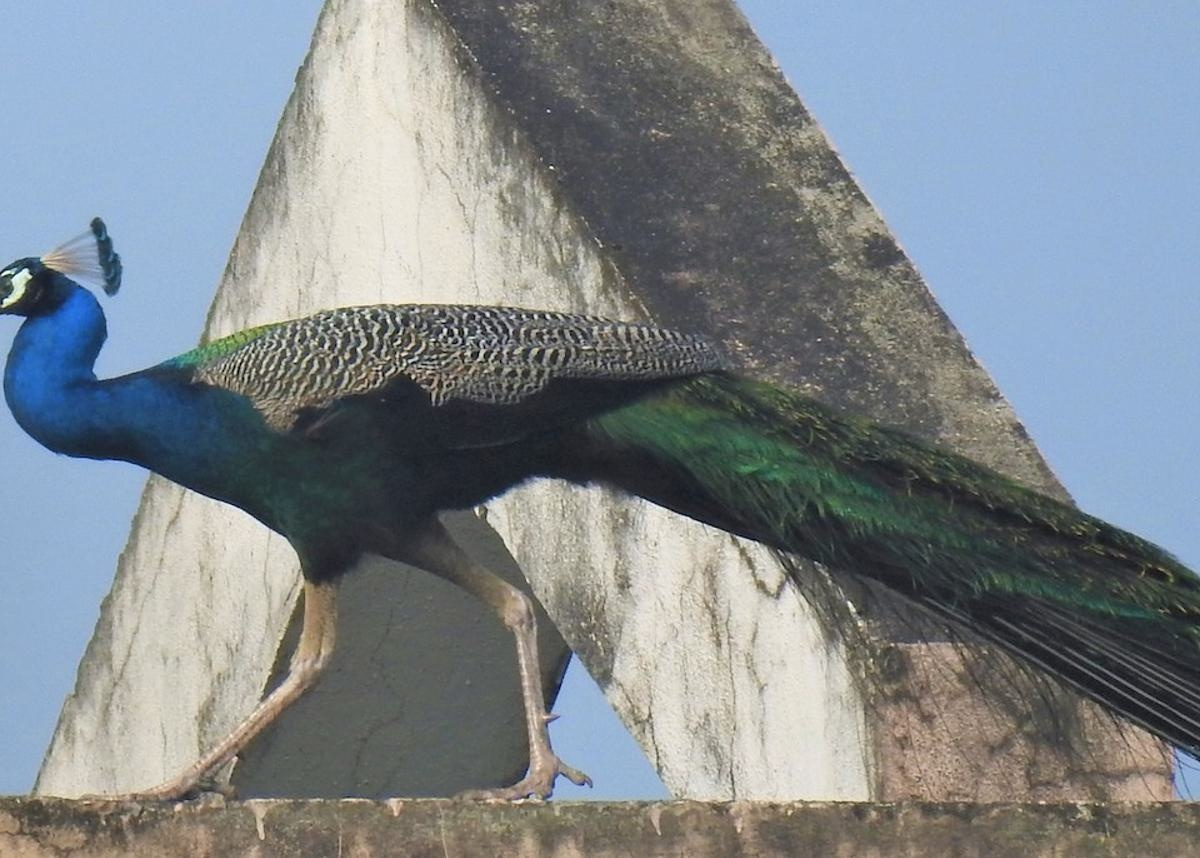peacock: (1, 206, 1165, 754)
